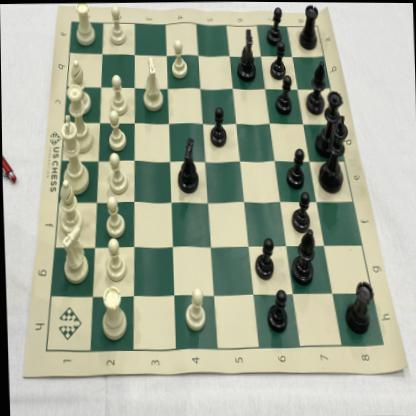black-bishop: (343, 279, 374, 333), (289, 229, 315, 284), (304, 60, 324, 115), (298, 2, 320, 48)
black-king: (316, 113, 348, 195)
black-knight: (175, 136, 200, 193), (235, 25, 256, 82)
black-pawn: (265, 288, 288, 333), (253, 235, 275, 280), (285, 145, 306, 190), (289, 191, 311, 233), (207, 104, 227, 146), (274, 73, 293, 115), (269, 41, 287, 80), (266, 5, 283, 44)
black-queen: (313, 89, 345, 158)
white-bishop: (57, 180, 82, 236), (69, 58, 91, 115)
white-king: (59, 114, 89, 196)
white-knight: (59, 225, 89, 284), (142, 55, 164, 111)
white-pawn: (101, 238, 127, 282), (103, 151, 129, 194), (100, 196, 125, 240), (183, 289, 206, 335), (107, 73, 128, 115), (106, 110, 126, 151), (108, 4, 127, 47), (169, 37, 188, 80)
white-queen: (65, 82, 94, 154)
white-rook: (99, 285, 126, 341), (74, 2, 96, 46)
